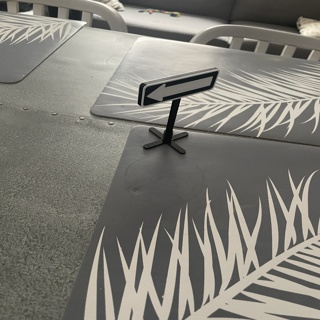sign_oneway_left: (139, 67, 217, 109)
